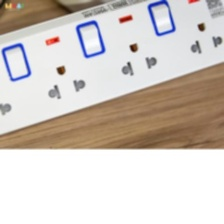three_eye_plug: (0, 0, 224, 140)
